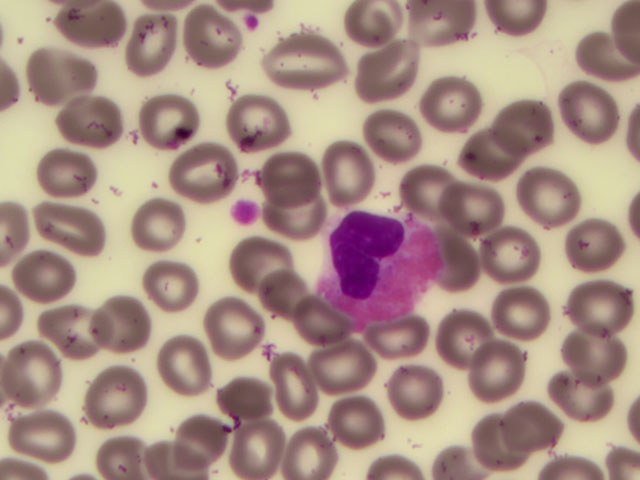Platelets: (241, 12, 266, 44), (232, 196, 258, 223)
RBC: (31, 47, 100, 101), (62, 94, 131, 148), (29, 142, 98, 196), (22, 198, 91, 252), (21, 249, 90, 303), (31, 302, 100, 356), (1, 346, 70, 400), (5, 407, 74, 461), (83, 366, 152, 420), (80, 300, 149, 354), (140, 252, 209, 306), (130, 194, 199, 248), (181, 149, 250, 203), (143, 100, 212, 154), (212, 88, 281, 142), (175, 6, 244, 60), (133, 13, 202, 67), (278, 36, 347, 90), (263, 144, 332, 198), (308, 144, 377, 198), (358, 112, 427, 166), (355, 52, 424, 106), (416, 74, 485, 128), (490, 98, 559, 152), (462, 130, 531, 184), (399, 161, 468, 215), (435, 184, 504, 238), (503, 172, 572, 226), (482, 225, 551, 279), (487, 287, 556, 341), (426, 314, 495, 368), (458, 340, 527, 394), (557, 325, 626, 379), (571, 289, 640, 343), (557, 213, 626, 267), (554, 82, 623, 136), (538, 369, 607, 423), (503, 397, 572, 451), (479, 411, 548, 465), (385, 366, 454, 420), (369, 324, 438, 378), (307, 343, 376, 397), (287, 303, 356, 357), (250, 274, 319, 328), (228, 238, 297, 292), (262, 193, 331, 247), (204, 302, 273, 356), (158, 339, 227, 393), (210, 370, 279, 424), (223, 413, 292, 467), (165, 413, 234, 467), (100, 426, 169, 480), (282, 426, 351, 480), (327, 394, 396, 448), (56, 1, 125, 54), (345, 1, 414, 54)
WBC: (315, 209, 450, 316)
